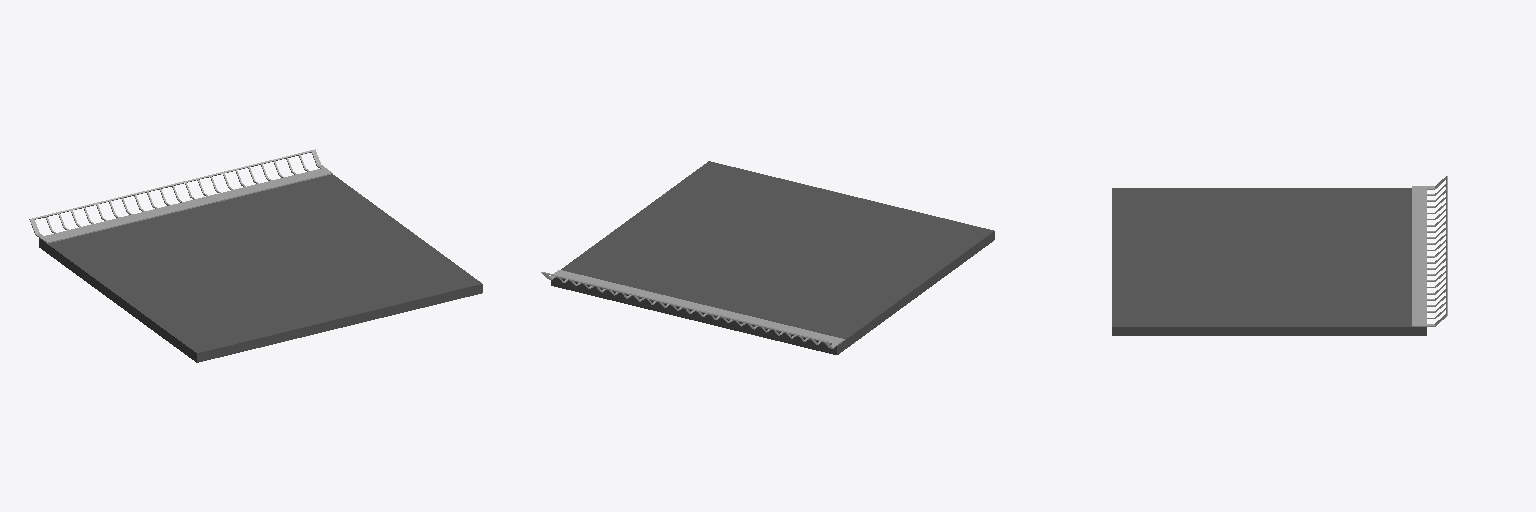
Rendered from IKEA.ART.90213573.obj.
3 views of the same model, side by side, from view 1: azimuth 30°, elevation 25°; view 2: azimuth 150°, elevation 25°; view 3: azimuth 270°, elevation 25° (orthographic).
Visible parts, largest first — view 1: model_model.022; view 2: model_model.022; view 3: model_model.022.
Boxes of the visible parts, <box> form: model_model.022: <box>29,149,482,362</box>; model_model.022: <box>541,161,994,354</box>; model_model.022: <box>1112,176,1447,335</box>.
Size of the model in its own units: 0.564 by 0.0407 by 0.5733.